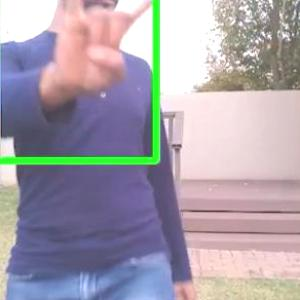takeoff-hand: (48, 0, 173, 100)
